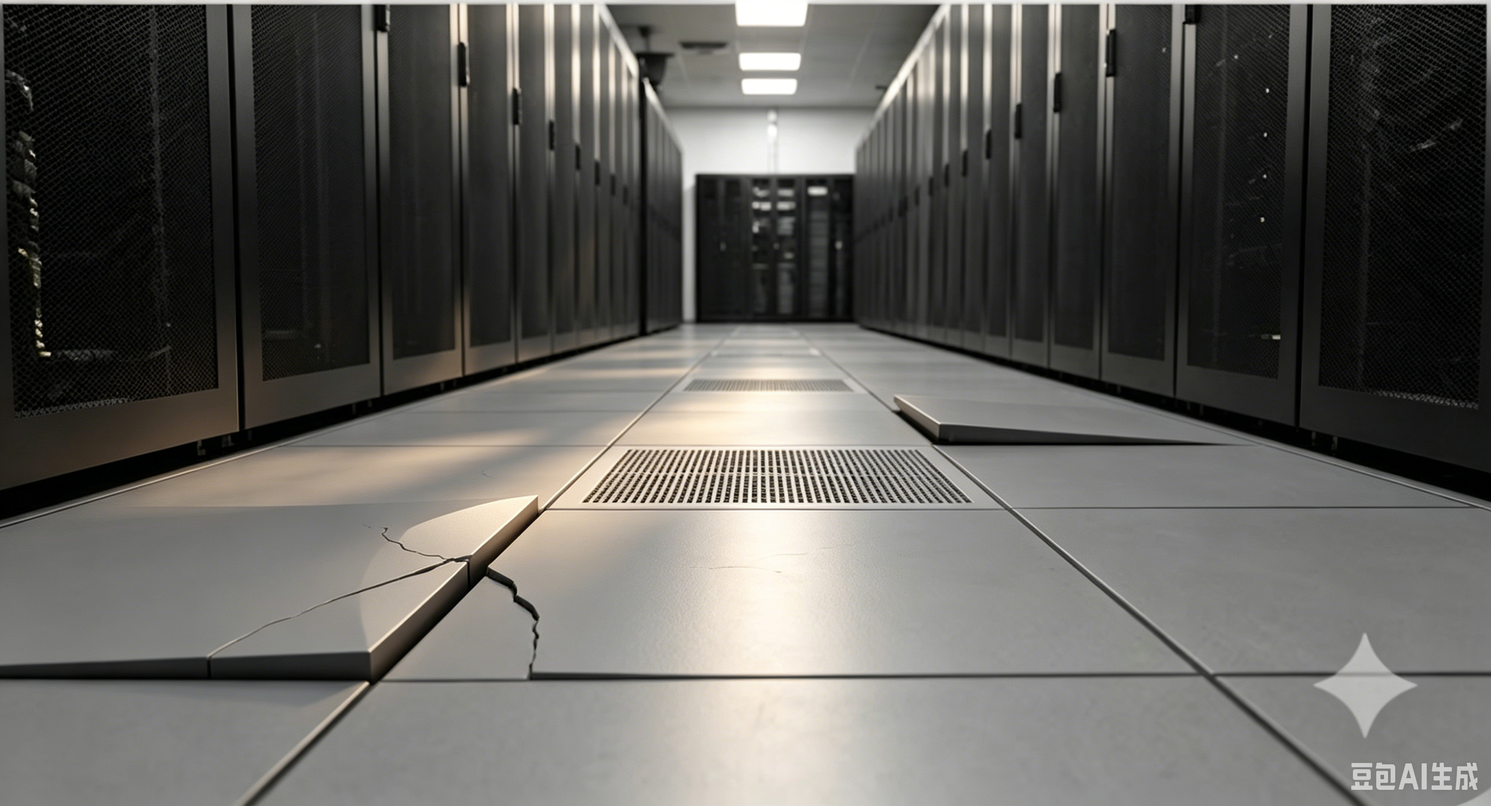floor_defect: (874, 383, 1228, 457), (9, 641, 398, 699), (484, 568, 573, 688), (235, 578, 398, 638), (463, 482, 547, 569), (365, 513, 465, 577)
